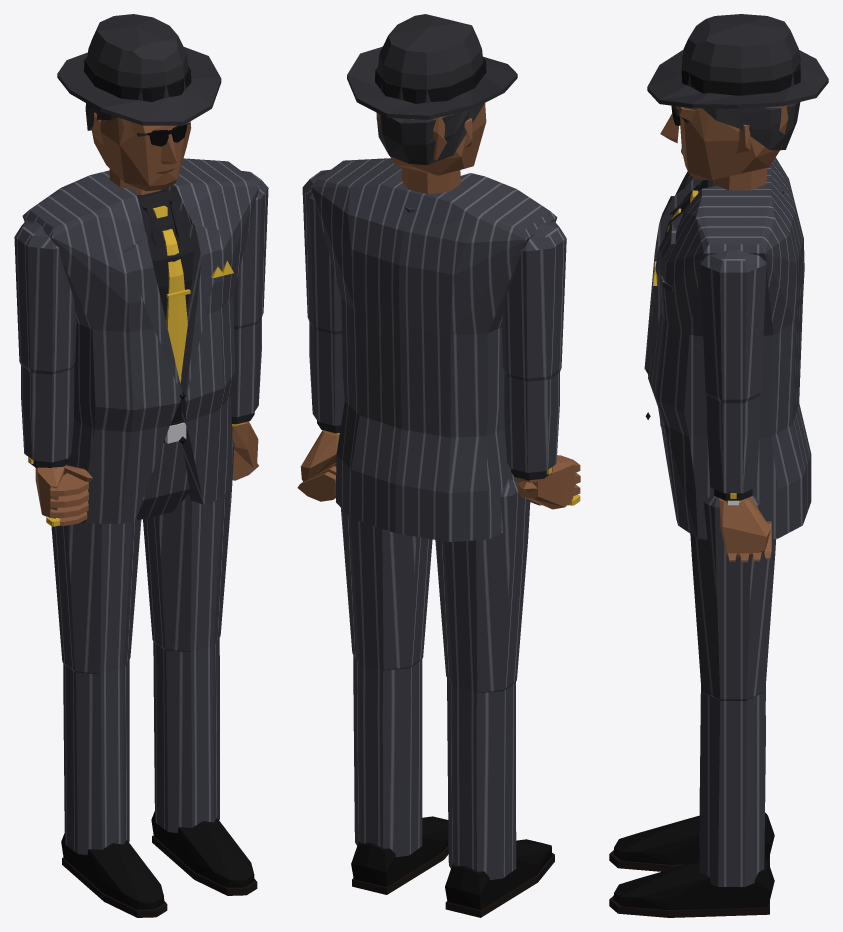
The model's file is boss.glb.
The picture shows the model from 3 angles, left to right: view 1: azimuth 30°, elevation 25°; view 2: azimuth 150°, elevation 25°; view 3: azimuth 270°, elevation 25°; orthographic projection. The views are drawn at different scales.
Parts seen in each view (by area): view 1: chest_mesh, head_mesh, spine_mesh, hips_mesh, lowerLegR_mesh, lowerLegL_mesh, upperLegR_mesh, upperLegL_mesh, upperArmR_mesh, footL_mesh, footR_mesh, lowerArmR_mesh (+5 smaller); view 2: chest_mesh, hips_mesh, head_mesh, spine_mesh, upperLegR_mesh, lowerLegL_mesh, lowerLegR_mesh, upperLegL_mesh, upperArmR_mesh, lowerArmR_mesh, footR_mesh, footL_mesh (+5 smaller); view 3: head_mesh, chest_mesh, lowerLegL_mesh, upperLegL_mesh, spine_mesh, hips_mesh, upperArmL_mesh, footL_mesh, lowerArmL_mesh, footR_mesh, handL_mesh, neck_mesh.
Part boxes in pixels (x1=…): chest_mesh: x1=22, y1=158, x2=259, y2=332; head_mesh: x1=57, y1=14, x2=221, y2=191; spine_mesh: x1=74, y1=295, x2=235, y2=431; hips_mesh: x1=66, y1=396, x2=232, y2=523; lowerLegR_mesh: x1=63, y1=659, x2=129, y2=854; lowerLegL_mesh: x1=153, y1=638, x2=219, y2=832; upperLegR_mesh: x1=51, y1=517, x2=141, y2=674; upperLegL_mesh: x1=143, y1=439, x2=234, y2=652; upperArmR_mesh: x1=14, y1=220, x2=76, y2=374; footL_mesh: x1=151, y1=811, x2=257, y2=895; footR_mesh: x1=61, y1=833, x2=167, y2=917; lowerArmR_mesh: x1=21, y1=366, x2=74, y2=467; chest_mesh: x1=311, y1=158, x2=557, y2=335; hips_mesh: x1=336, y1=402, x2=517, y2=541; head_mesh: x1=347, y1=14, x2=517, y2=175; spine_mesh: x1=341, y1=298, x2=504, y2=437; upperLegR_mesh: x1=435, y1=478, x2=530, y2=693; lowerLegL_mesh: x1=353, y1=655, x2=422, y2=857; lowerLegR_mesh: x1=447, y1=678, x2=516, y2=879; upperLegL_mesh: x1=341, y1=508, x2=432, y2=670; upperArmR_mesh: x1=502, y1=221, x2=566, y2=381; lowerArmR_mesh: x1=504, y1=372, x2=559, y2=482; footR_mesh: x1=445, y1=839, x2=554, y2=917; footL_mesh: x1=351, y1=816, x2=448, y2=894; head_mesh: x1=647, y1=14, x2=828, y2=180; chest_mesh: x1=651, y1=157, x2=804, y2=336; lowerLegL_mesh: x1=699, y1=690, x2=765, y2=886; upperLegL_mesh: x1=690, y1=492, x2=776, y2=700; spine_mesh: x1=644, y1=295, x2=802, y2=438; hips_mesh: x1=645, y1=403, x2=811, y2=539; upperArmL_mesh: x1=700, y1=250, x2=766, y2=403; footL_mesh: x1=609, y1=858, x2=774, y2=917; lowerArmL_mesh: x1=706, y1=396, x2=760, y2=505; footR_mesh: x1=609, y1=812, x2=774, y2=871; handL_mesh: x1=719, y1=497, x2=771, y2=562; neck_mesh: x1=669, y1=168, x2=767, y2=226.
Bounding box in the file's own units: 0.5661 × 1.87 × 0.4318.
Materials: 19 (2 with a texture image).
